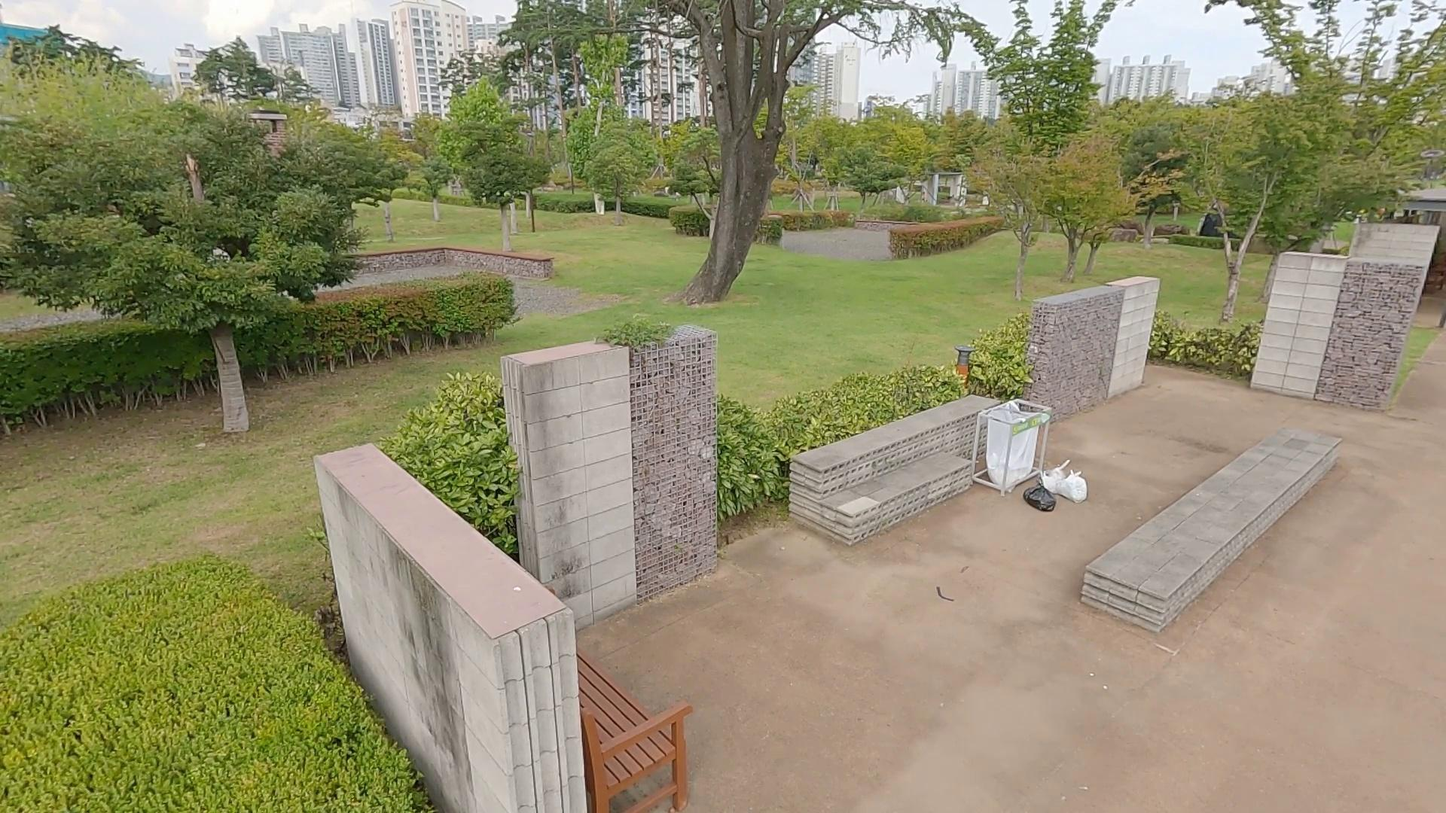trash: (1039, 458, 1073, 500), (1022, 477, 1060, 512), (1059, 469, 1091, 508)
